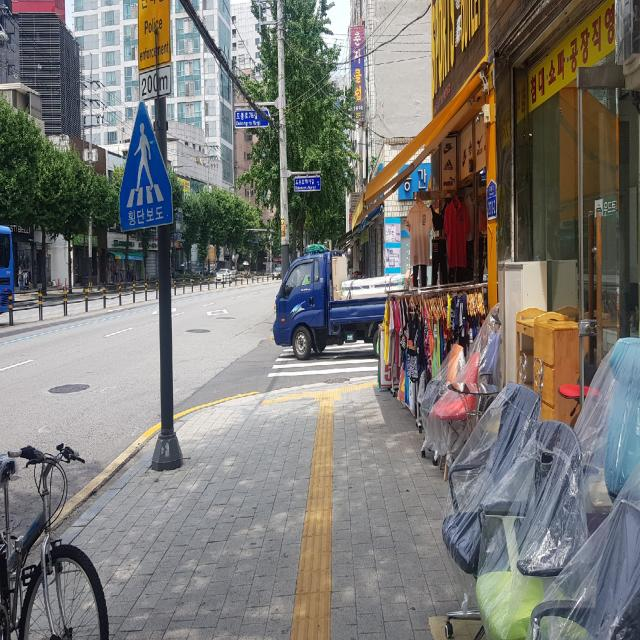횡단보도: (267, 339, 379, 378)
